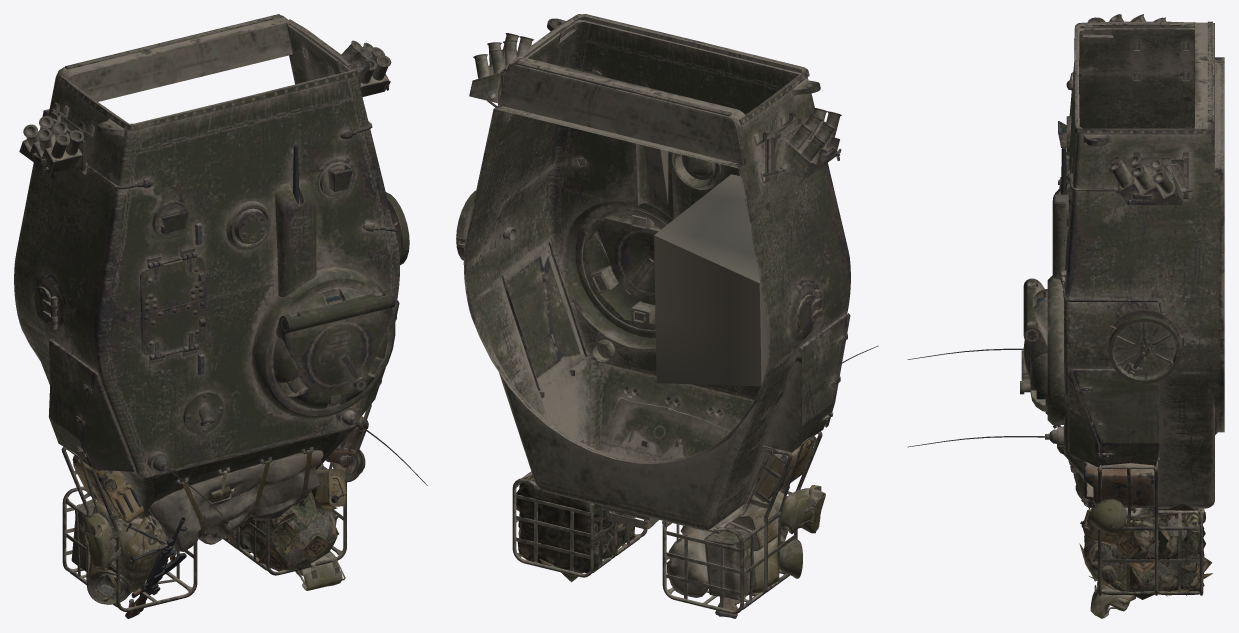
The model's file is Turret_01.glb.
The picture shows the model from 3 angles, left to right: view 1: azimuth 30°, elevation 25°; view 2: azimuth 150°, elevation 25°; view 3: azimuth 270°, elevation 25°; orthographic projection. The views are drawn at different scales.
Parts seen in each view (by area): view 1: set_0_group_0; view 2: set_0_group_0; view 3: set_0_group_0.
Part boxes in pixels (x1,y1,x2,y2): set_0_group_0: (14,14,427,618); set_0_group_0: (456,14,878,618); set_0_group_0: (907,14,1224,618).
Bounding box in the file's own units: 2.55 × 3.62 × 2.06.
Materials: 1 (1 with a texture image).
